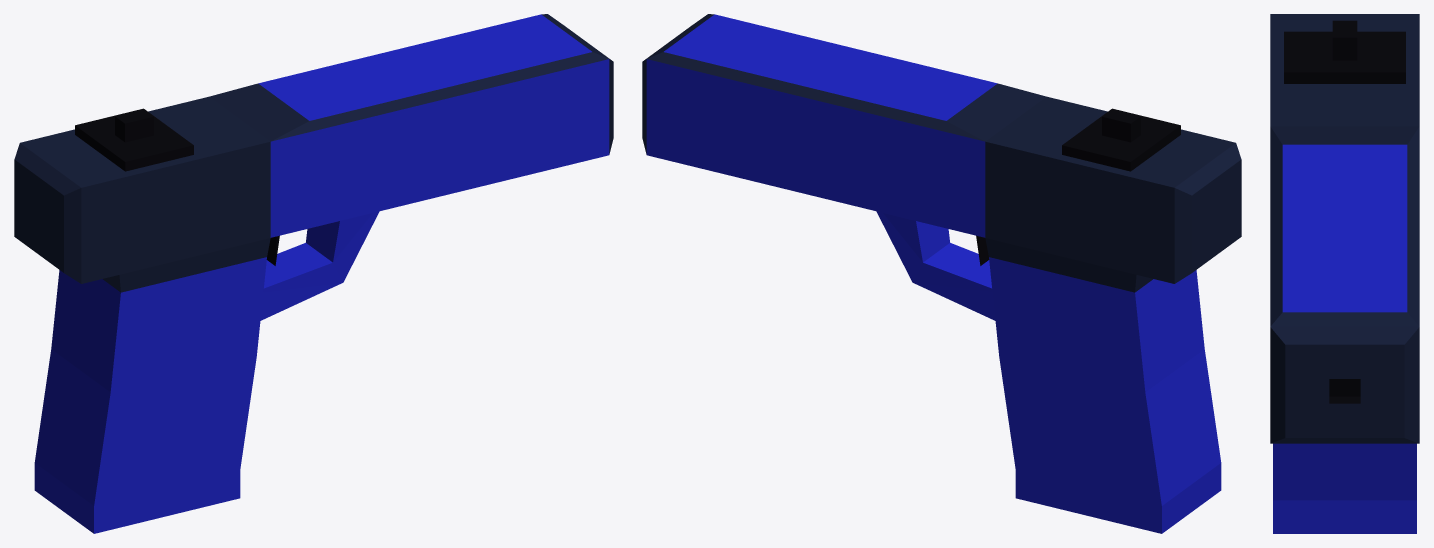
Rendered from gun.obj.
3 renders of one model, left to right at view 1: azimuth 30°, elevation 25°; view 2: azimuth 150°, elevation 25°; view 3: azimuth 270°, elevation 25°, orthographic. The views are drawn at different scales.
Parts seen in each view (by area): view 1: Cube_Cube.001; view 2: Cube_Cube.001; view 3: Cube_Cube.001.
Boxes of the visible parts, <box> form: Cube_Cube.001: <box>14,14,613,533</box>; Cube_Cube.001: <box>642,14,1241,533</box>; Cube_Cube.001: <box>1270,14,1419,533</box>.
Bounding box in the file's own units: 3.58 × 2.36 × 0.6941.
